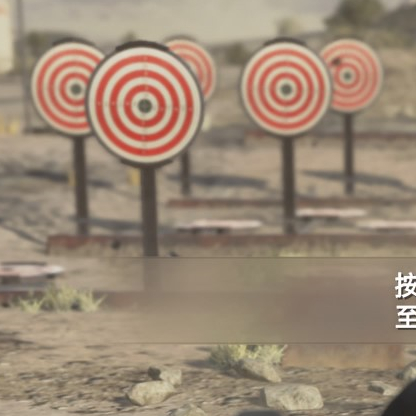target: (84, 41, 204, 170), (238, 37, 333, 140), (30, 39, 88, 140)
